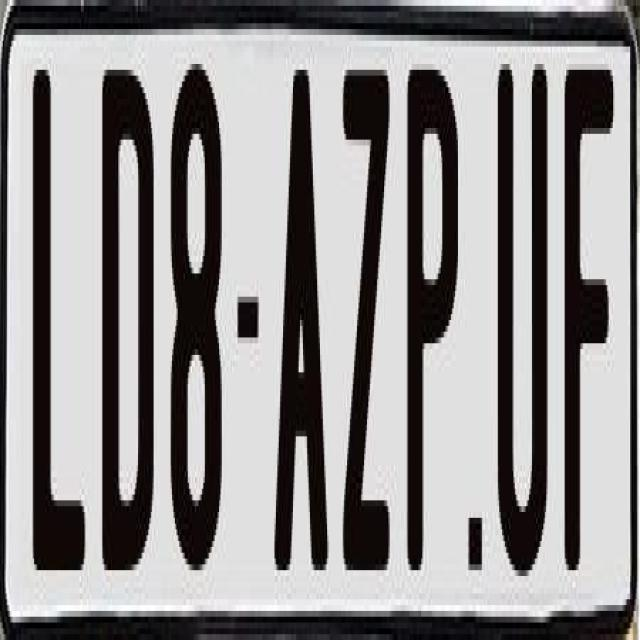8: (168, 58, 225, 588)
A: (274, 52, 332, 582)
D: (102, 52, 162, 576)
F: (563, 58, 620, 582)
L: (31, 52, 84, 558)
P: (406, 58, 462, 582)
U: (498, 63, 548, 600)
Z: (340, 52, 388, 553)
